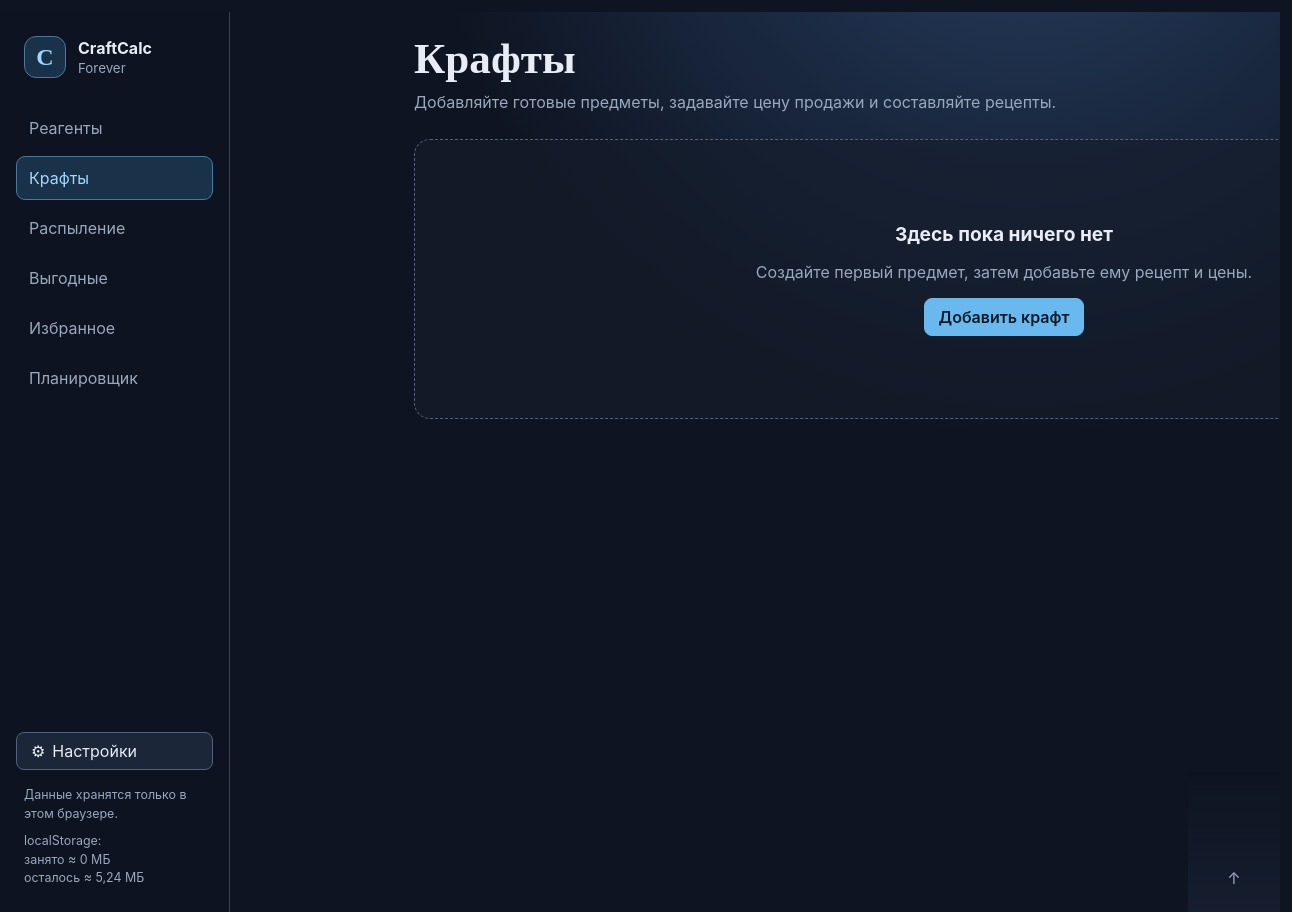
Test case: добавляет встроенную разборку эссенции в производство и сохраняет только цель
The width and height of the screenshot is (1292, 912).
Click the button "Планировщик" at (114, 378), box [16, 356, 213, 400]
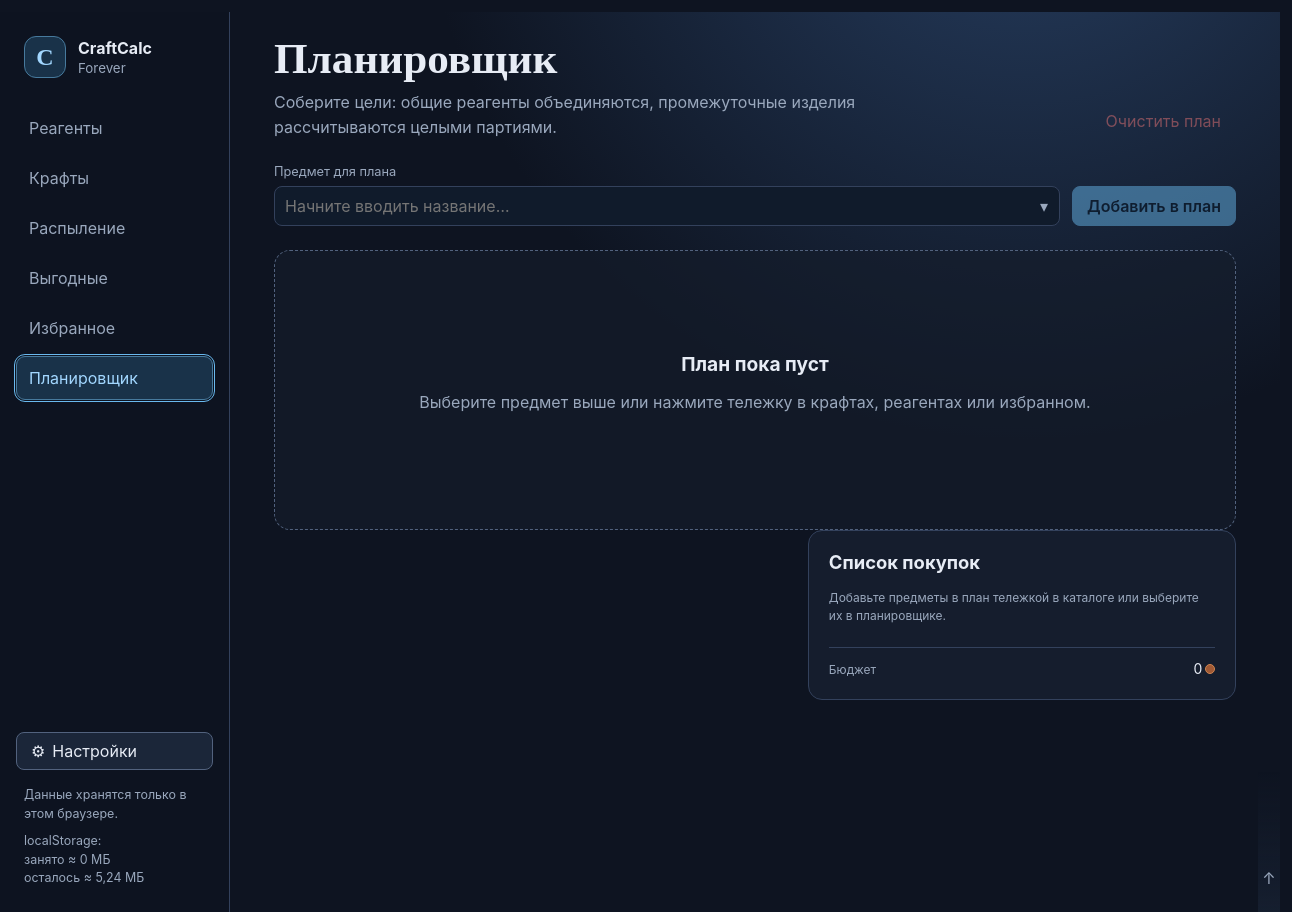
Click the dropdown labelled "Предмет для плана" at (667, 206), box [274, 186, 1060, 226]
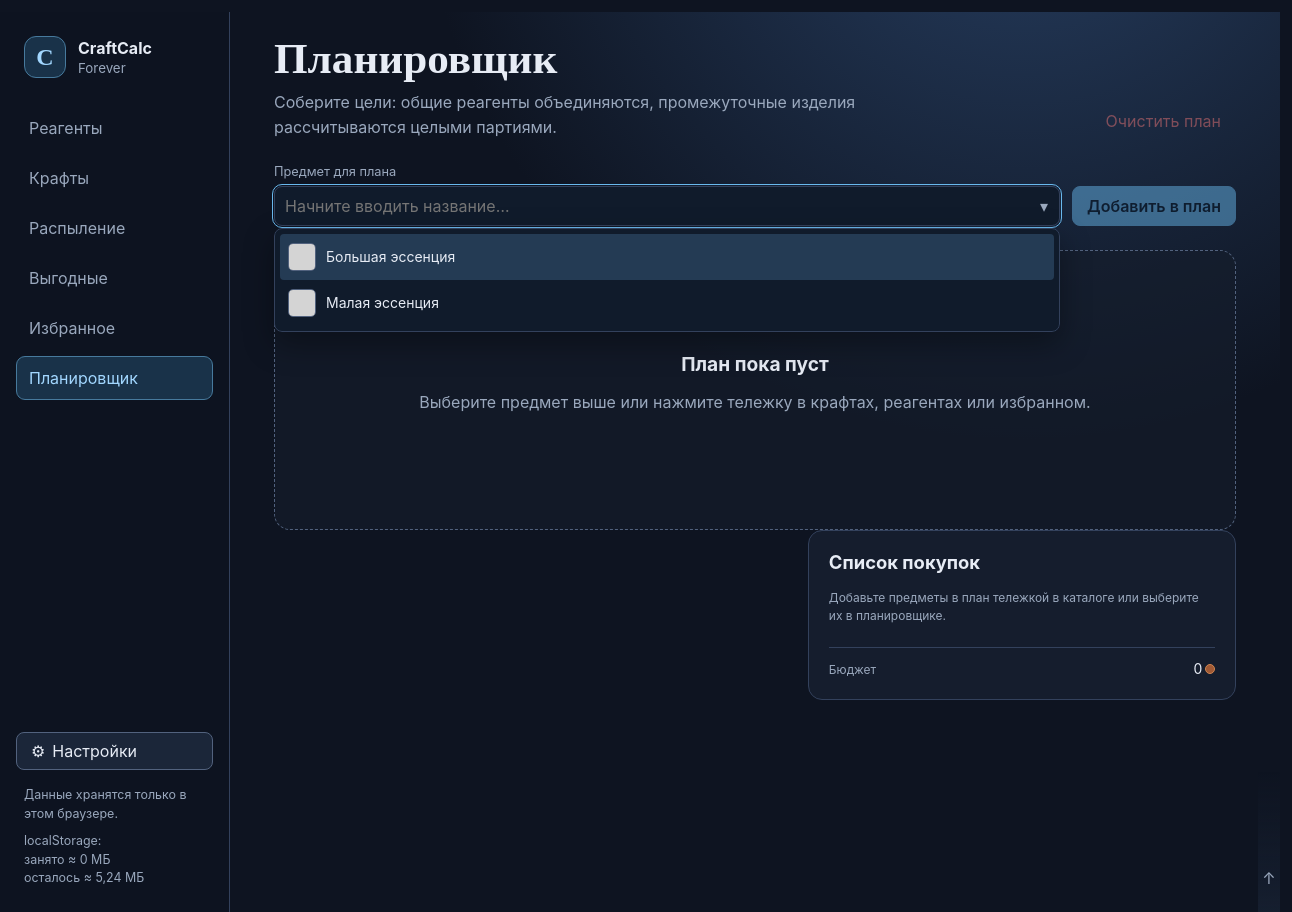
Click the option "Малая эссенция" at (363, 303), box [288, 289, 439, 317]
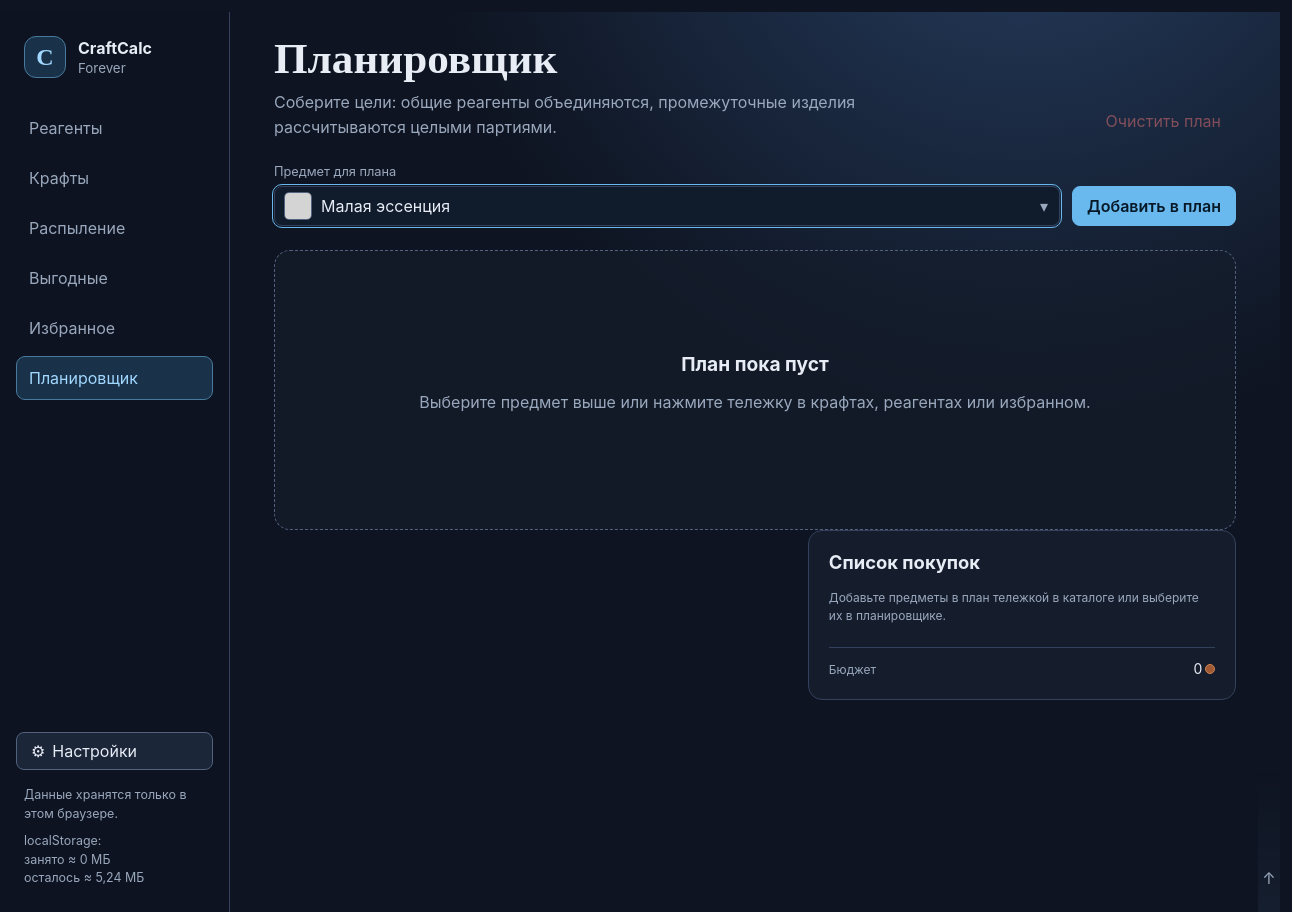
Click the button "Добавить в план" at (1154, 206), box [1072, 186, 1236, 226]
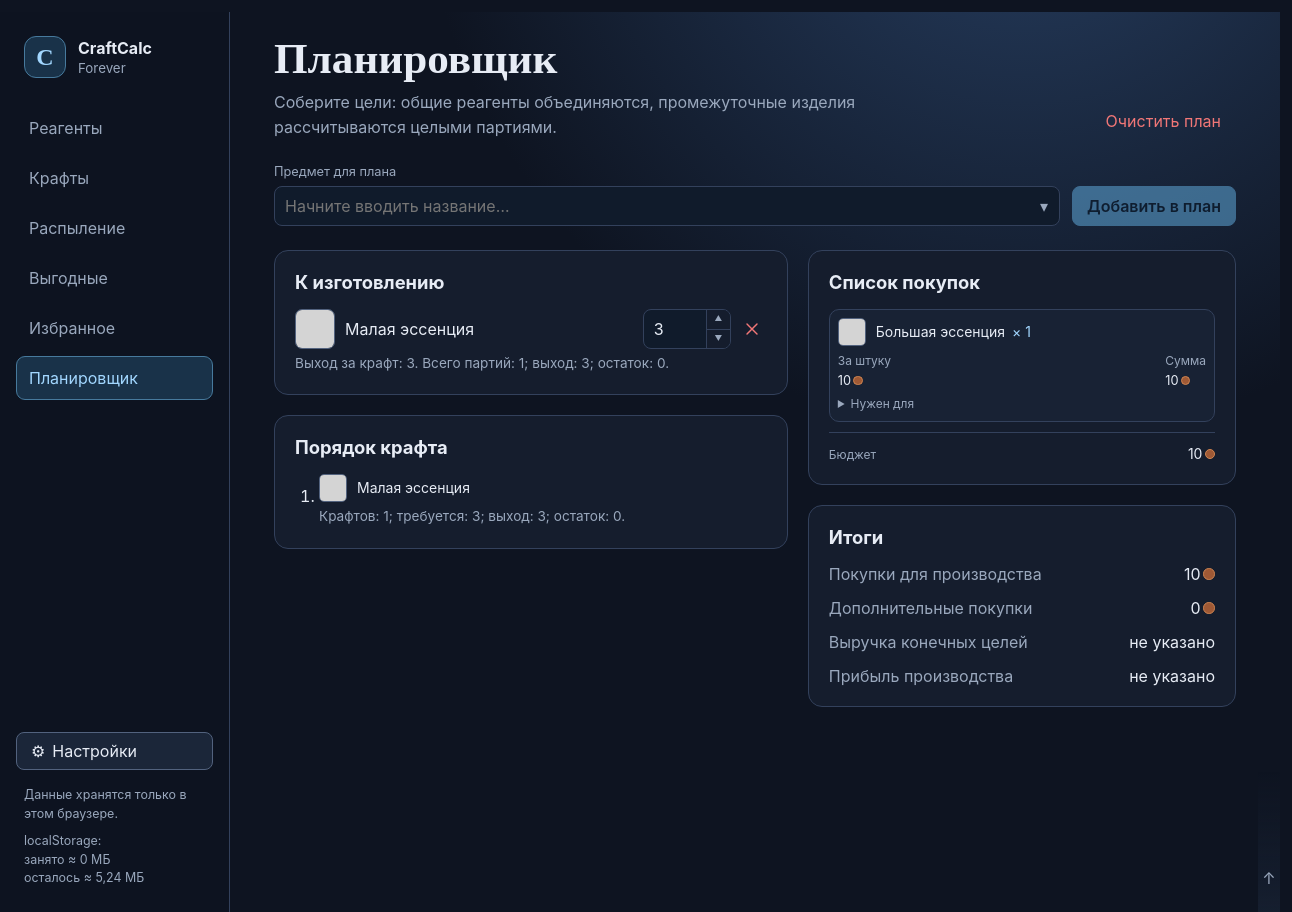
Expected: the heading "К изготовлению" is shown, [295, 271, 444, 293]
Expected: the text "Выход за крафт: 3. Всего партий: 1; выход: 3; остаток: 0." is shown, [295, 355, 669, 371]
